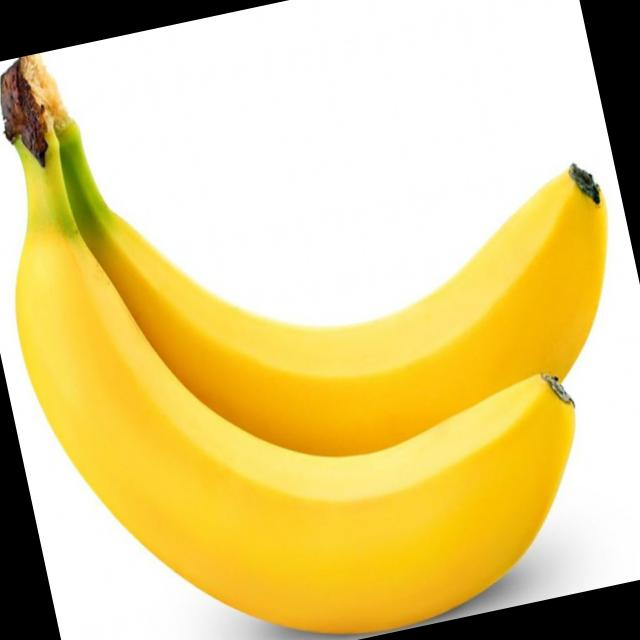banana: (0, 112, 613, 640), (32, 50, 634, 498)
